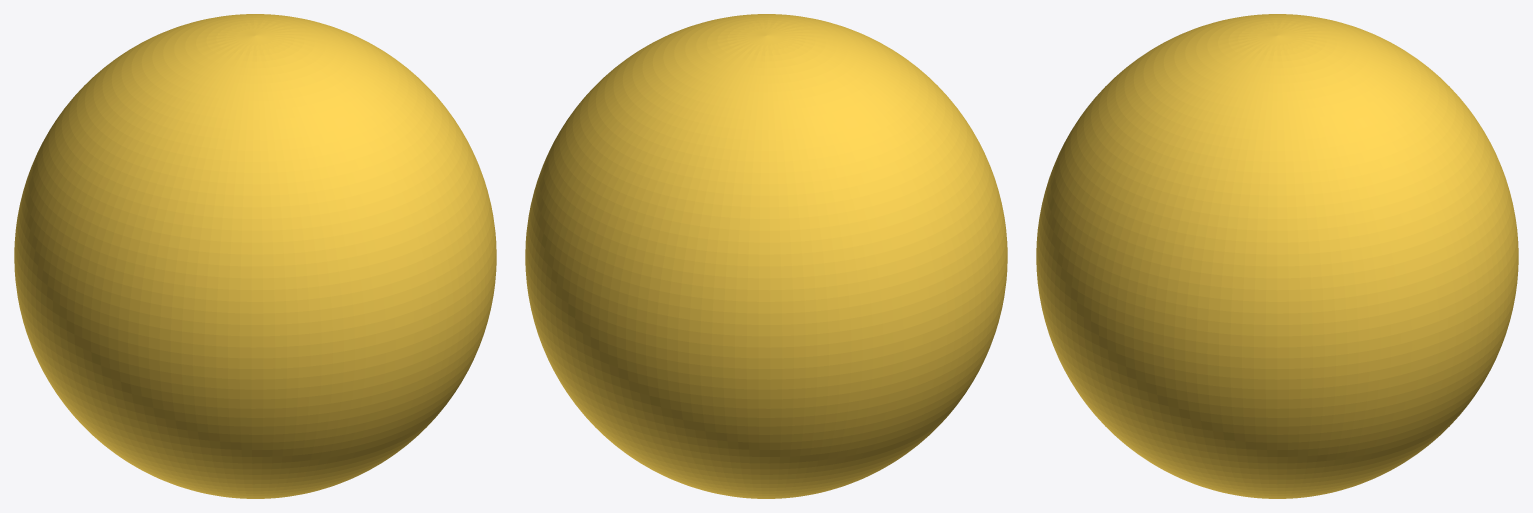
Rendered from tounge.glb.
3 renders of one model, left to right at view 1: azimuth 30°, elevation 25°; view 2: azimuth 150°, elevation 25°; view 3: azimuth 270°, elevation 25°, orthographic.
Parts seen in each view (by area): view 1: 球体; view 2: 球体; view 3: 球体.
Part boxes in pixels (bbox=[...]): 球体: bbox=[14, 14, 496, 498]; 球体: bbox=[525, 14, 1007, 498]; 球体: bbox=[1036, 14, 1518, 498].
Size of the model in its own units: 1.97 by 2 by 1.97.
2 materials, 2 textured.
